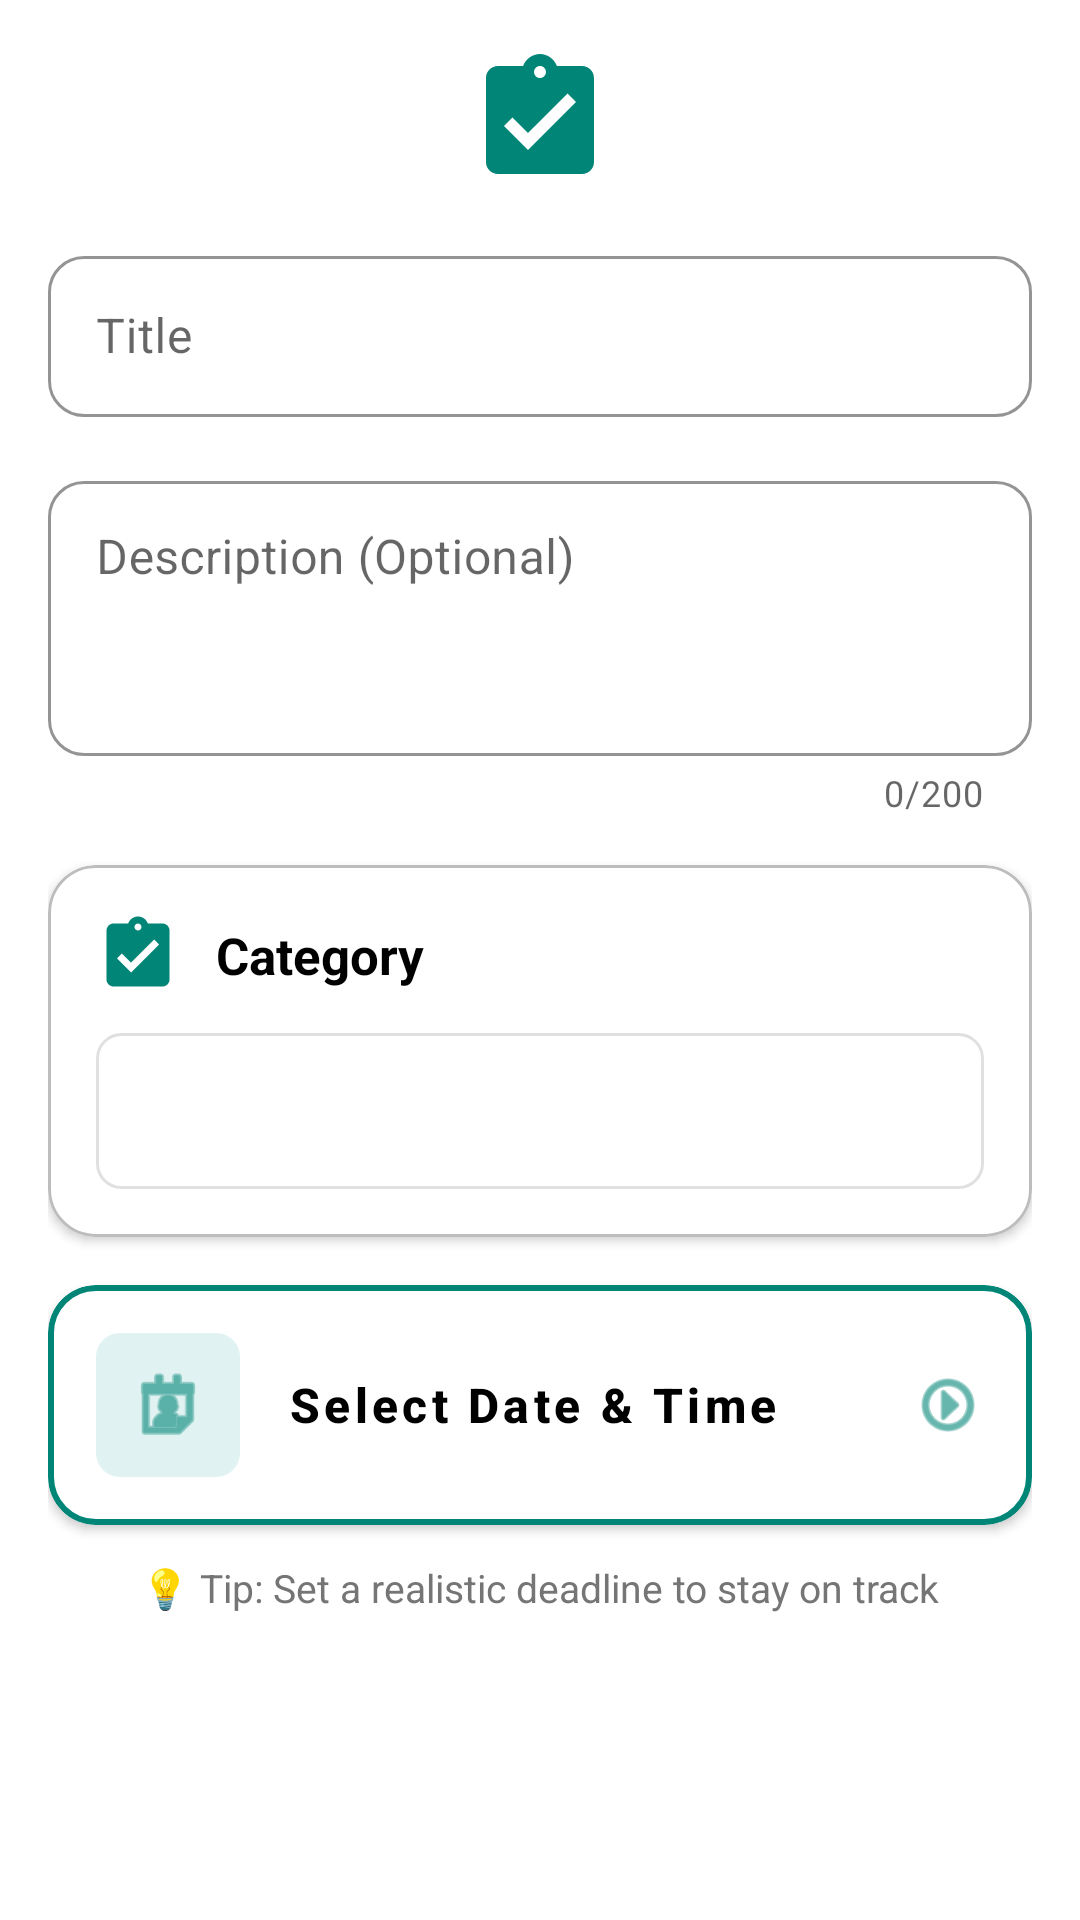

Where icons sit on this 1080px×1920px app screen, as [x1, y1, x2, y2]:
calendar: [141, 1373, 195, 1435]
